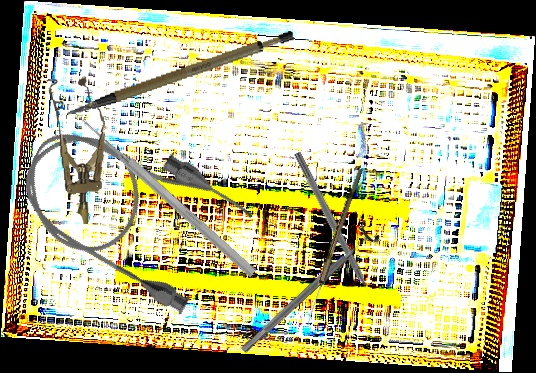Cannula: (1, 95, 260, 323)
Fixation Ring: (233, 219, 383, 361)
Hook Surgical: (291, 150, 379, 308)
Pusher: (77, 113, 259, 280)
Scalpel Handle: (57, 27, 301, 117)
Speculum: (45, 74, 114, 227)
Surgical Spoon: (304, 167, 363, 327)
